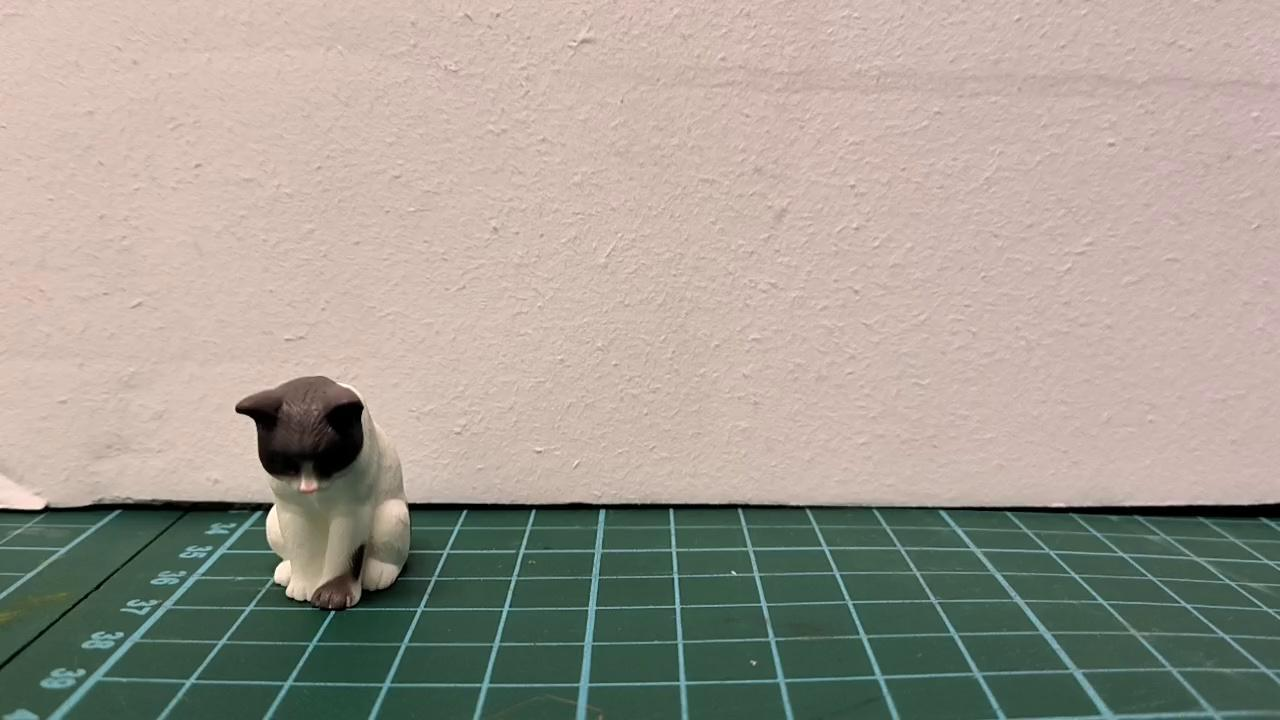pet: (236, 371, 414, 611)
